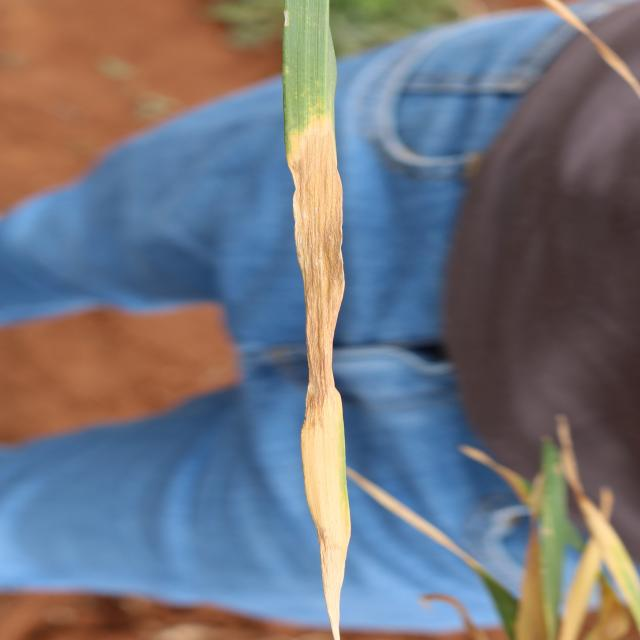Septoria: (307, 425, 342, 574), (295, 115, 328, 218), (310, 228, 342, 332), (307, 334, 332, 417)
